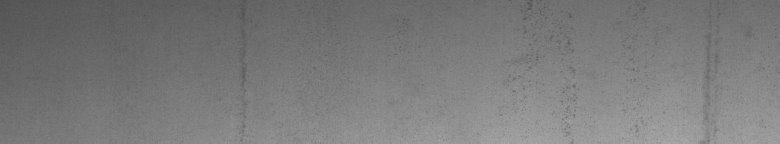ib: (521, 4, 638, 132)
